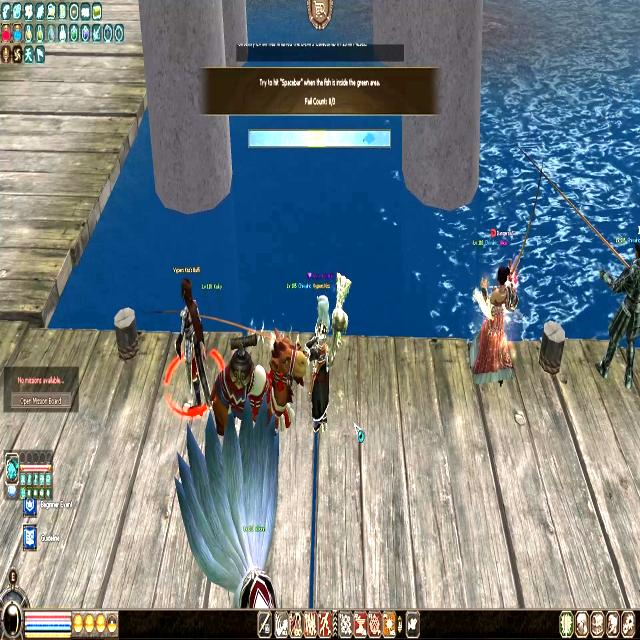fishes: (362, 131, 375, 146)
